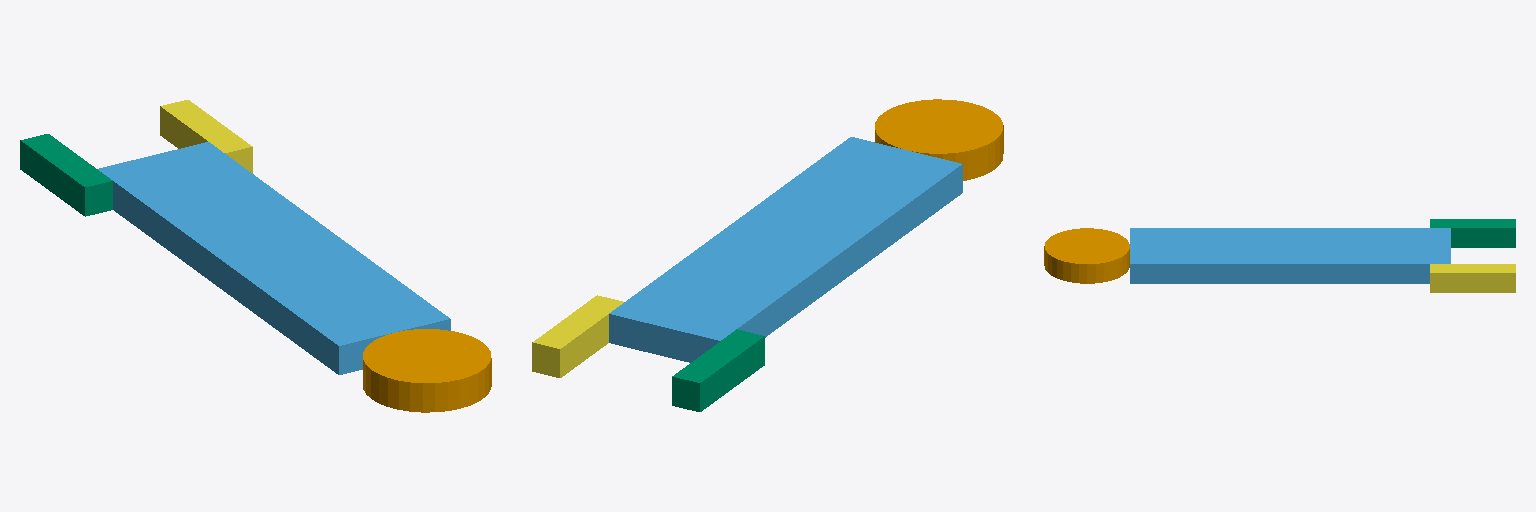
robot.urdf — planar_manipulator/1dof_manip:
<?xml version="1.0"?>
<robot name="planar_manipulator/1dof_manip">
 <link name="jlink0">
  <inertial>
    <mass value="1"/>
    <inertia ixx="0.0108333333333" ixy="0" ixz="0" iyy="0.0108333333333" iyz="0" izz="0.01"/>
  </inertial>
  <visual>
    <origin rpy="0 0 1.57" xyz="0 0 0"/>
    <geometry>
      <cylinder length="0.1" radius="0.2"/>
    </geometry>
  </visual>
  <collision>
    <origin rpy="0 0 1.57" xyz="0 0 0"/>
    <geometry>
      <cylinder length="0.1" radius="0.2"/>
    </geometry>
  </collision>
 </link>

 <link name="link0">
  <inertial>
    <mass value="1"/>
    <inertia ixx="0.0141666666667" ixy="0" ixz="0" iyy="0.200833333333" iyz="0" izz="0.188333333333"/>
  </inertial>
  <visual>
    <origin rpy="0 0 0" xyz="0 0.95 0"/>
    <geometry>
      <box size="0.4 1.5 0.1"/>
    </geometry>
  </visual>
  <collision>
    <origin rpy="0 0 0" xyz="0 0.95 0"/>
    <geometry>
      <box size="0.4 1.5 0.1"/>
    </geometry>
  </collision>
 </link>

<joint name="joint_revolute_jlink0_link0_Z" type="revolute">
  <origin rpy="0 0 0" xyz="0 0 0"/>
  <parent link="jlink0"/>
  <child link="link0"/>
  <axis xyz="0 0 1"/>
  <dynamics damping="0.01" friction="0.5"/>
  <limit lower="-3.14" upper="3.14" effort="0.01" velocity="100"/>
</joint>

 <link name="endeffectorL">
  <inertial>
    <mass value="1"/>
    <inertia ixx="0.00166666666667" ixy="0" ixz="0" iyy="0.0141666666667" iyz="0" izz="0.0141666666667"/>
  </inertial>
  <visual>
    <origin rpy="0 0 0" xyz="-0.25 0.1 0"/>
    <geometry>
      <box size="0.1 0.4 0.1"/>
    </geometry>
  </visual>
  <collision>
    <origin rpy="0 0 0" xyz="-0.25 0.1 0"/>
    <geometry>
      <box size="0.1 0.4 0.1"/>
    </geometry>
  </collision>
 </link>

 <link name="endeffectorR">
  <inertial>
    <mass value="1"/>
    <inertia ixx="0.00166666666667" ixy="0" ixz="0" iyy="0.0141666666667" iyz="0" izz="0.0141666666667"/>
  </inertial>
  <visual>
    <origin rpy="0 0 0" xyz="0.25 0.1 0"/>
    <geometry>
      <box size="0.1 0.4 0.1"/>
    </geometry>
  </visual>
  <collision>
    <origin rpy="0 0 0" xyz="0.25 0.1 0"/>
    <geometry>
      <box size="0.1 0.4 0.1"/>
    </geometry>
  </collision>
 </link>

<joint name="joint_fixed_link0_endeffectorL" type="fixed">
  <origin rpy="0 0 0" xyz="0 1.7 0"/>
  <parent link="link0"/>
  <child link="endeffectorL"/>
</joint>

<joint name="joint_fixed_link0_endeffectorR" type="fixed">
  <origin rpy="0 0 0" xyz="0 1.7 0"/>
  <parent link="link0"/>
  <child link="endeffectorR"/>
</joint>

  <klampt package_root="../../.." default_acc_max="4" >
  </klampt>
</robot>

--- Facts derived from the render (not from the file) ---
Views: 3 orthographic renders of the robot side by side, from view 1: azimuth 30°, elevation 25°; view 2: azimuth 150°, elevation 25°; view 3: azimuth 270°, elevation 25°.
Robot: planar_manipulator/1dof_manip — 4 links, 3 joints (1 revolute, 2 fixed); root link jlink0; default pose: all joints at 0.
Visible links, largest first — view 1: link0, jlink0, endeffectorL, endeffectorR; view 2: link0, jlink0, endeffectorL, endeffectorR; view 3: link0, jlink0, endeffectorR, endeffectorL.
Link boxes in pixels (x1,y1,x2,y2): link0: (98,142,450,374); jlink0: (363,329,491,412); endeffectorL: (20,134,112,216); endeffectorR: (160,100,252,173); link0: (609,137,962,362); jlink0: (875,99,1003,180); endeffectorL: (672,329,764,411); endeffectorR: (532,295,623,377); link0: (1130,228,1450,283); jlink0: (1044,228,1129,283); endeffectorR: (1430,264,1515,292); endeffectorL: (1430,219,1515,247).
Bounding box of the posed robot: 0.6 × 2.2 × 0.1 m (x, y, z).
Geometry: primitives only (box / cylinder / sphere), no mesh files.